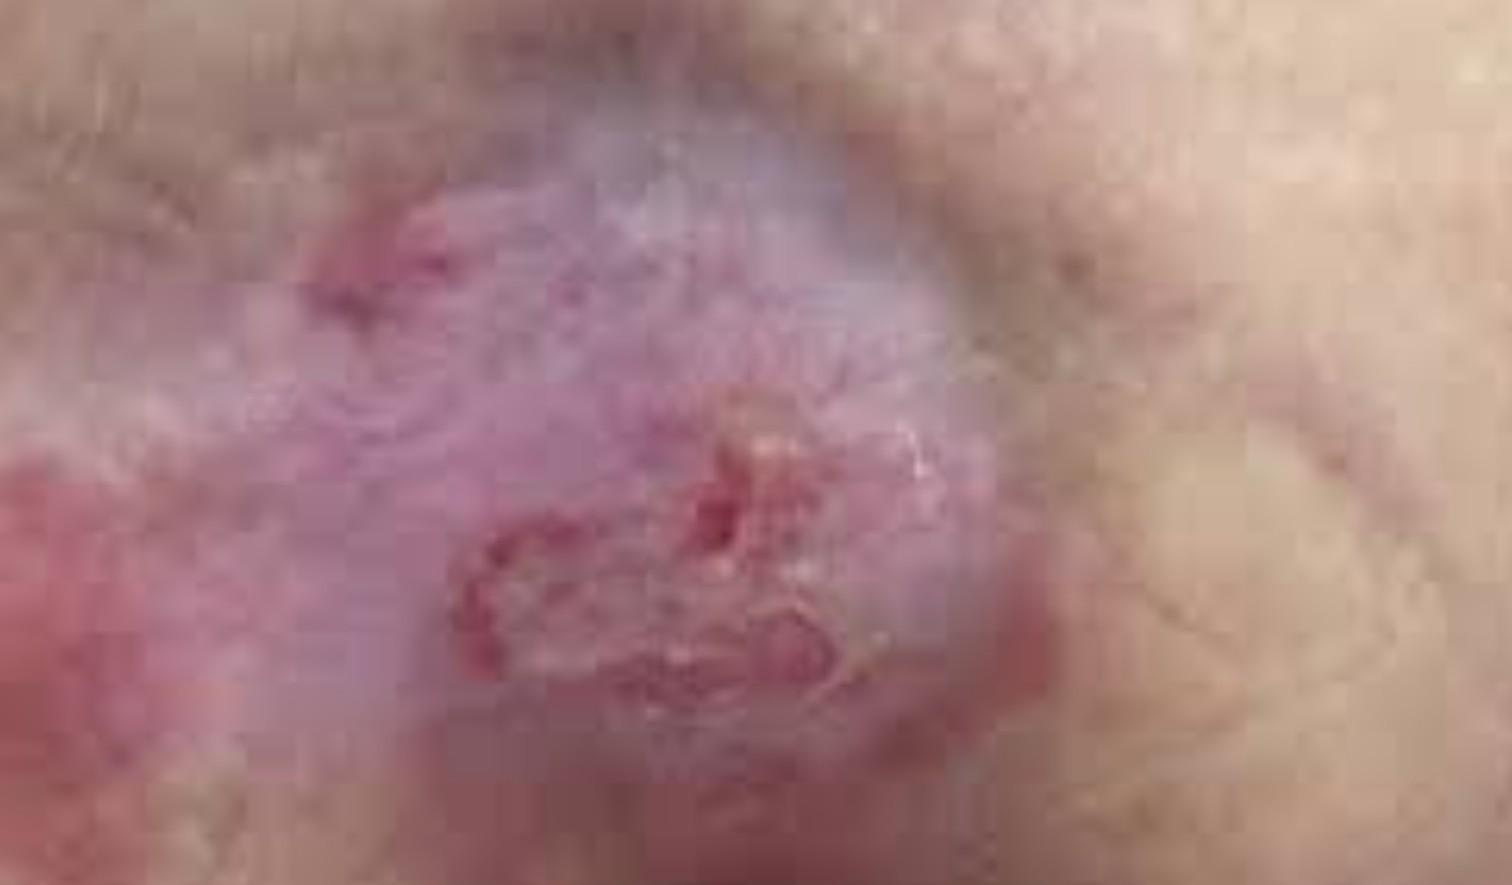Stage2: (483, 348, 908, 774)
